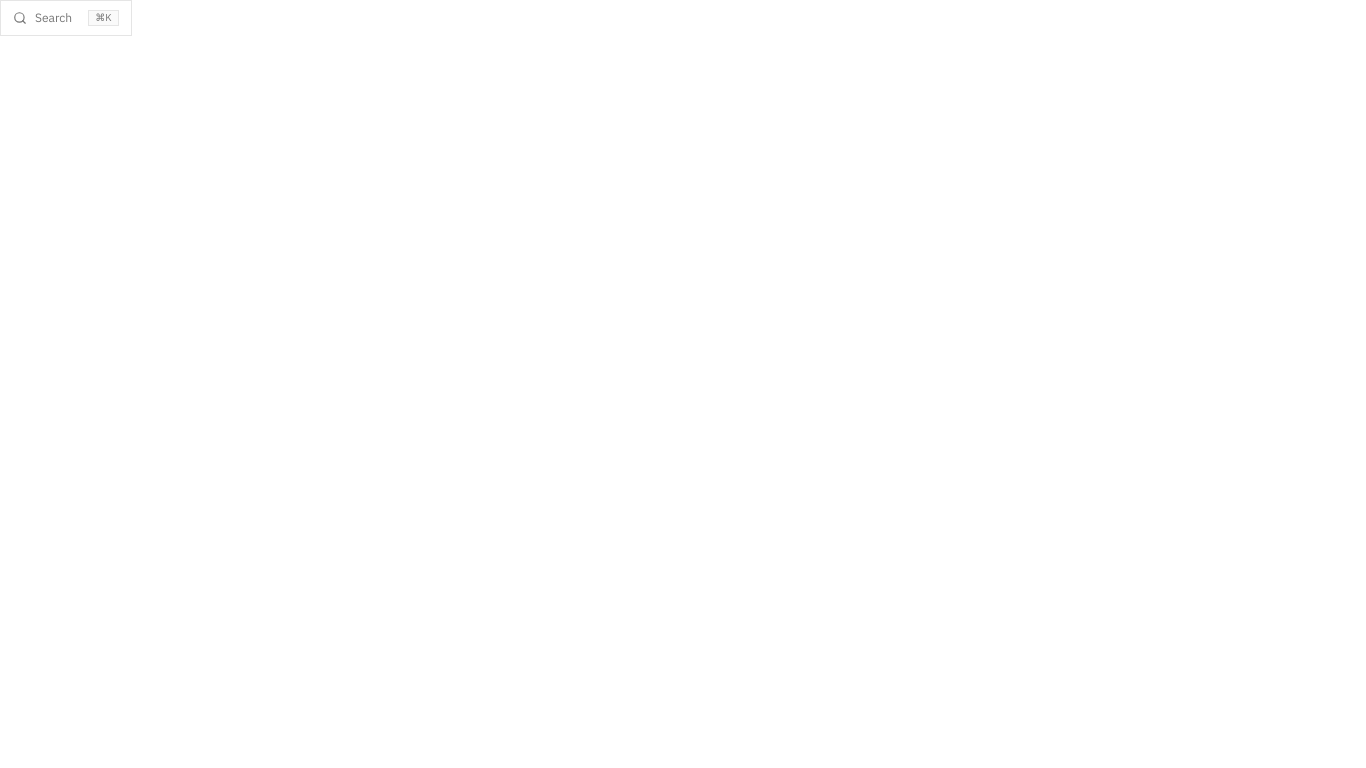
Test case: GlobalSearch › opens with the global shortcut and fuzzy-searches saved records
This screenshot has width=1366, height=768.
Press k
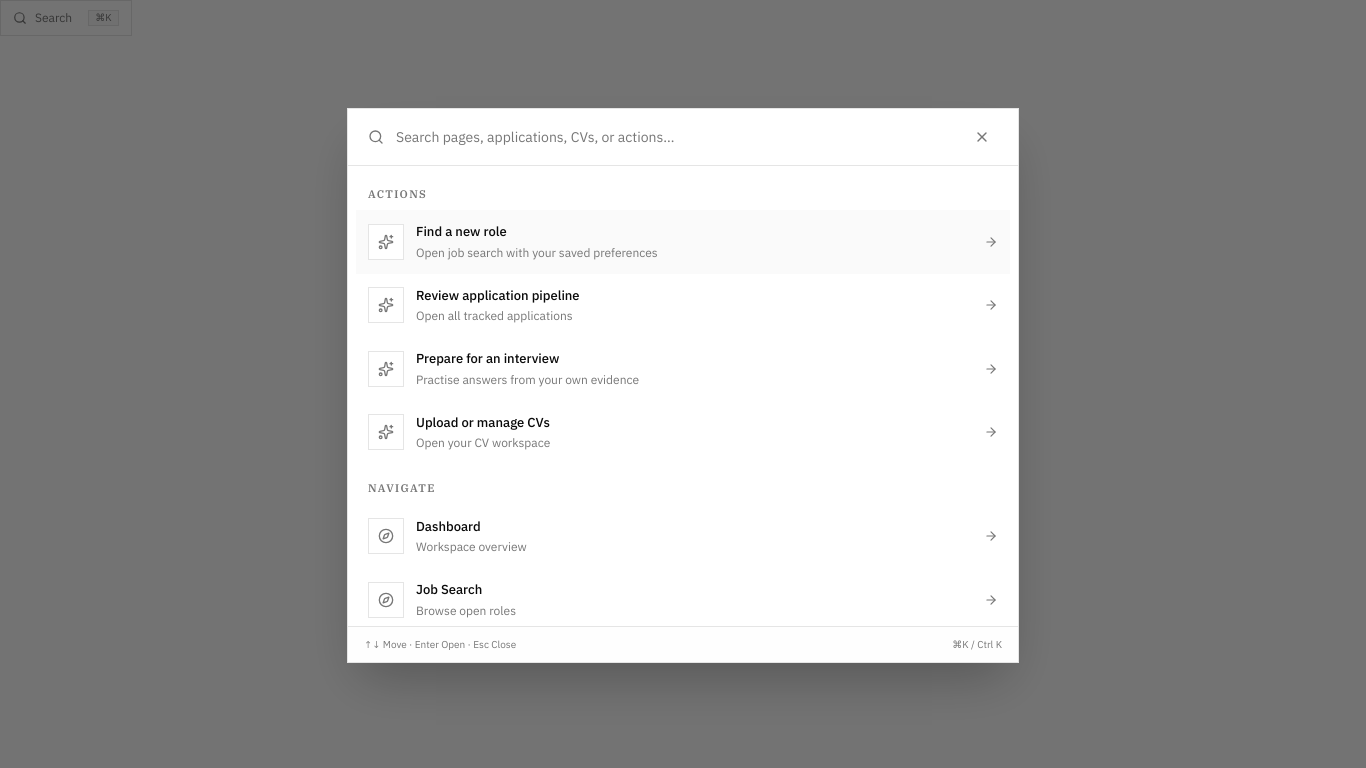
Type "pltfm eng" into the dropdown named "Global search" at (675, 136), box x1=396 y1=108 x2=954 y2=164
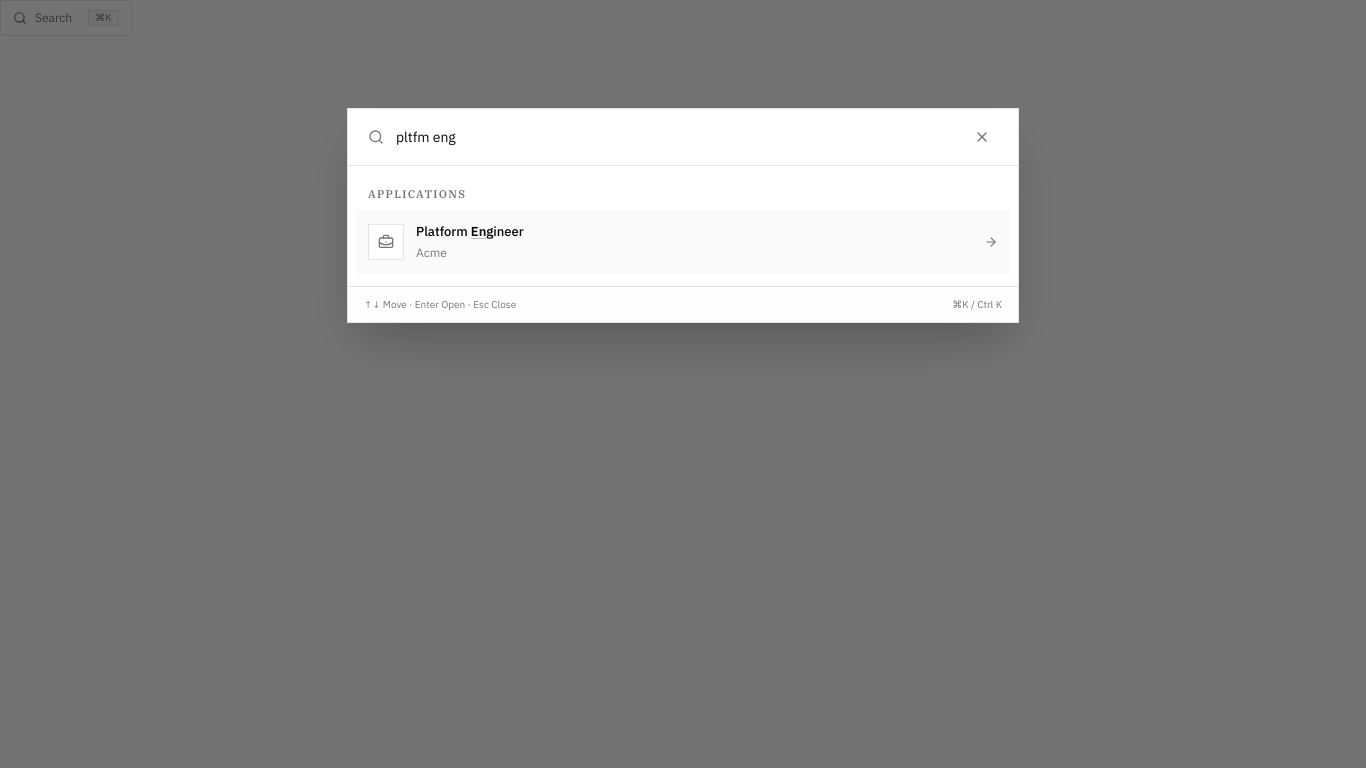
Expected: the option "Platform Engineer Acme" is shown, x1=356 y1=210 x2=1010 y2=274
